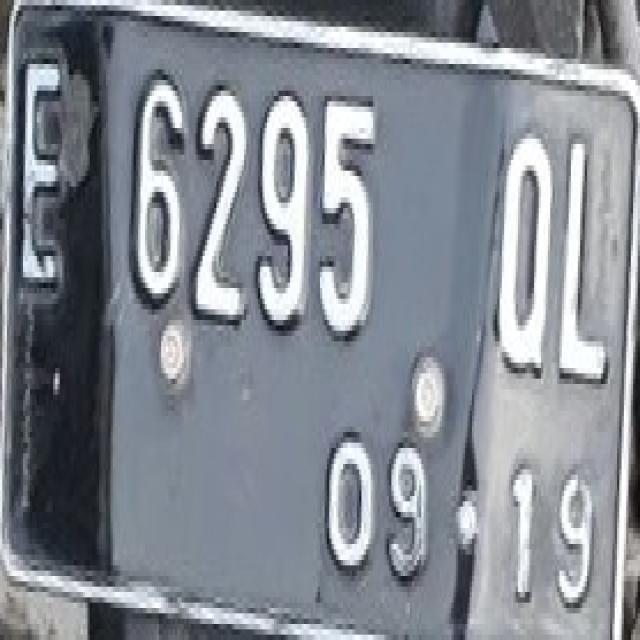plate: (7, 0, 631, 629)
